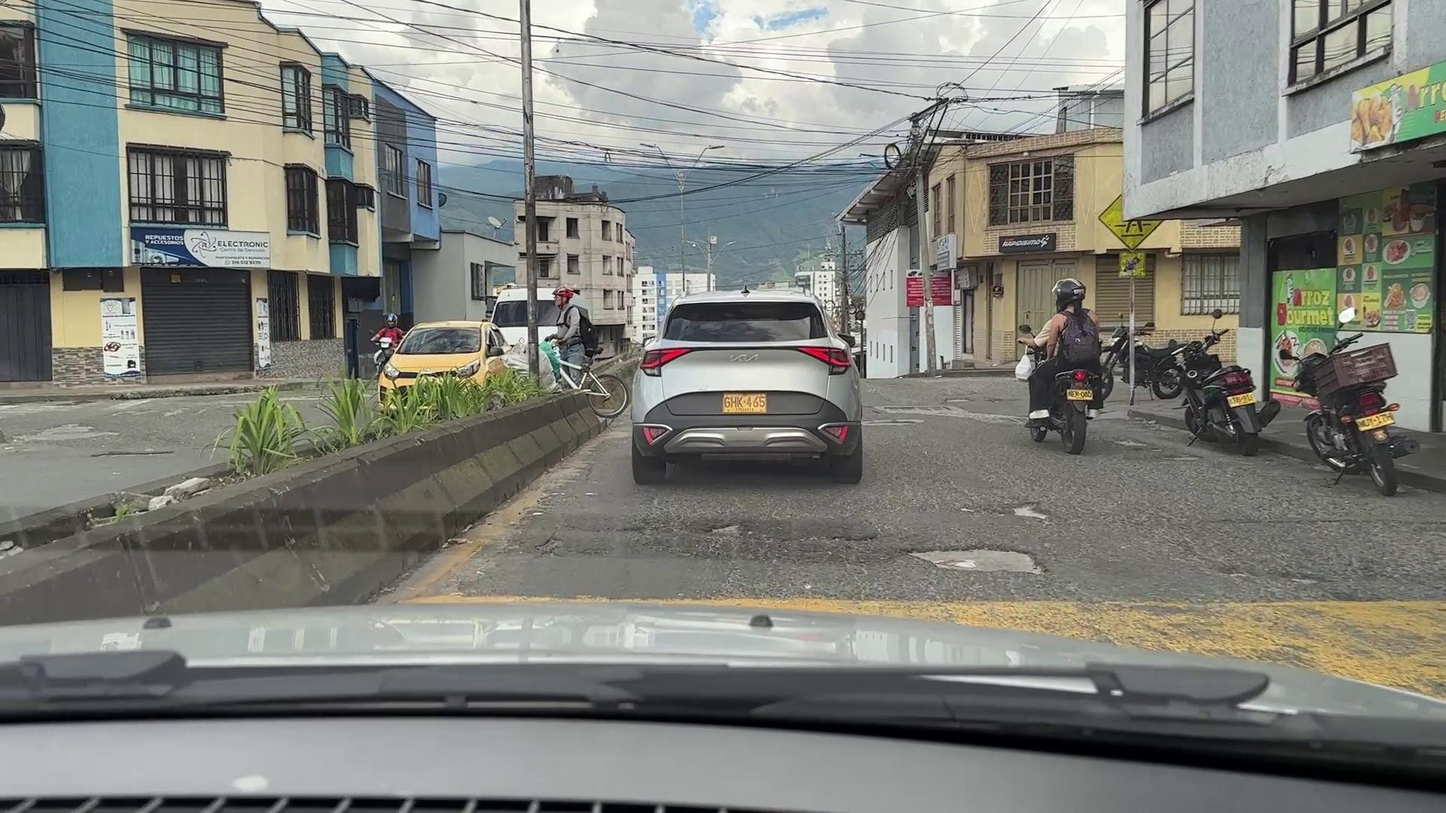bache: (911, 550, 1042, 574), (1013, 504, 1053, 519), (708, 525, 740, 535), (1112, 440, 1147, 446), (1170, 455, 1200, 461), (1291, 579, 1318, 584), (1226, 572, 1246, 578)
registro: (868, 421, 915, 424)
rejilla: (980, 417, 1029, 423), (885, 407, 951, 411)
